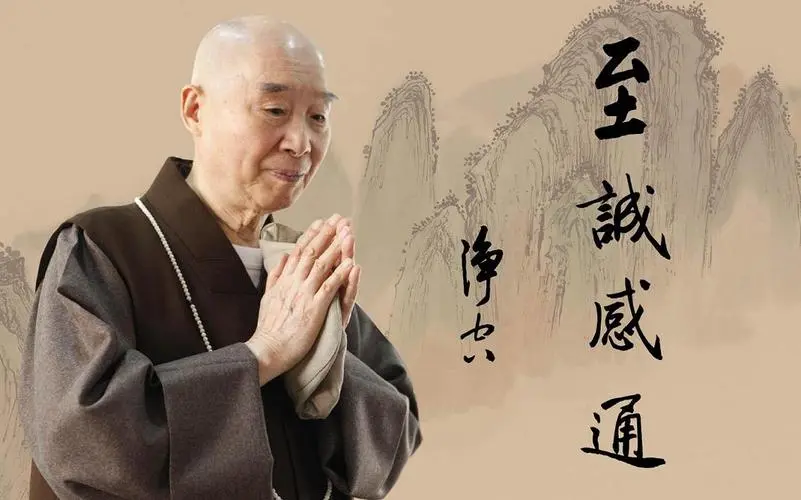withoutmask: (187, 14, 336, 228)
